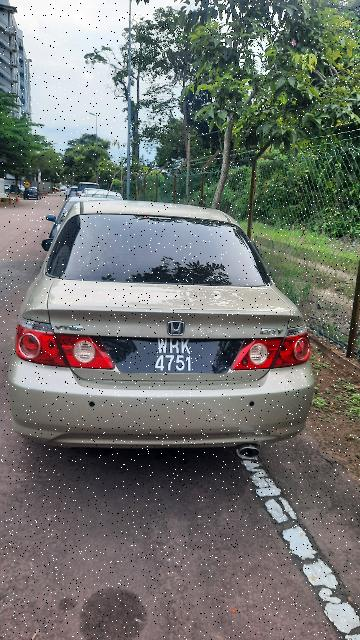License_Plate: (91, 328, 253, 378)
car: (9, 194, 324, 462)
